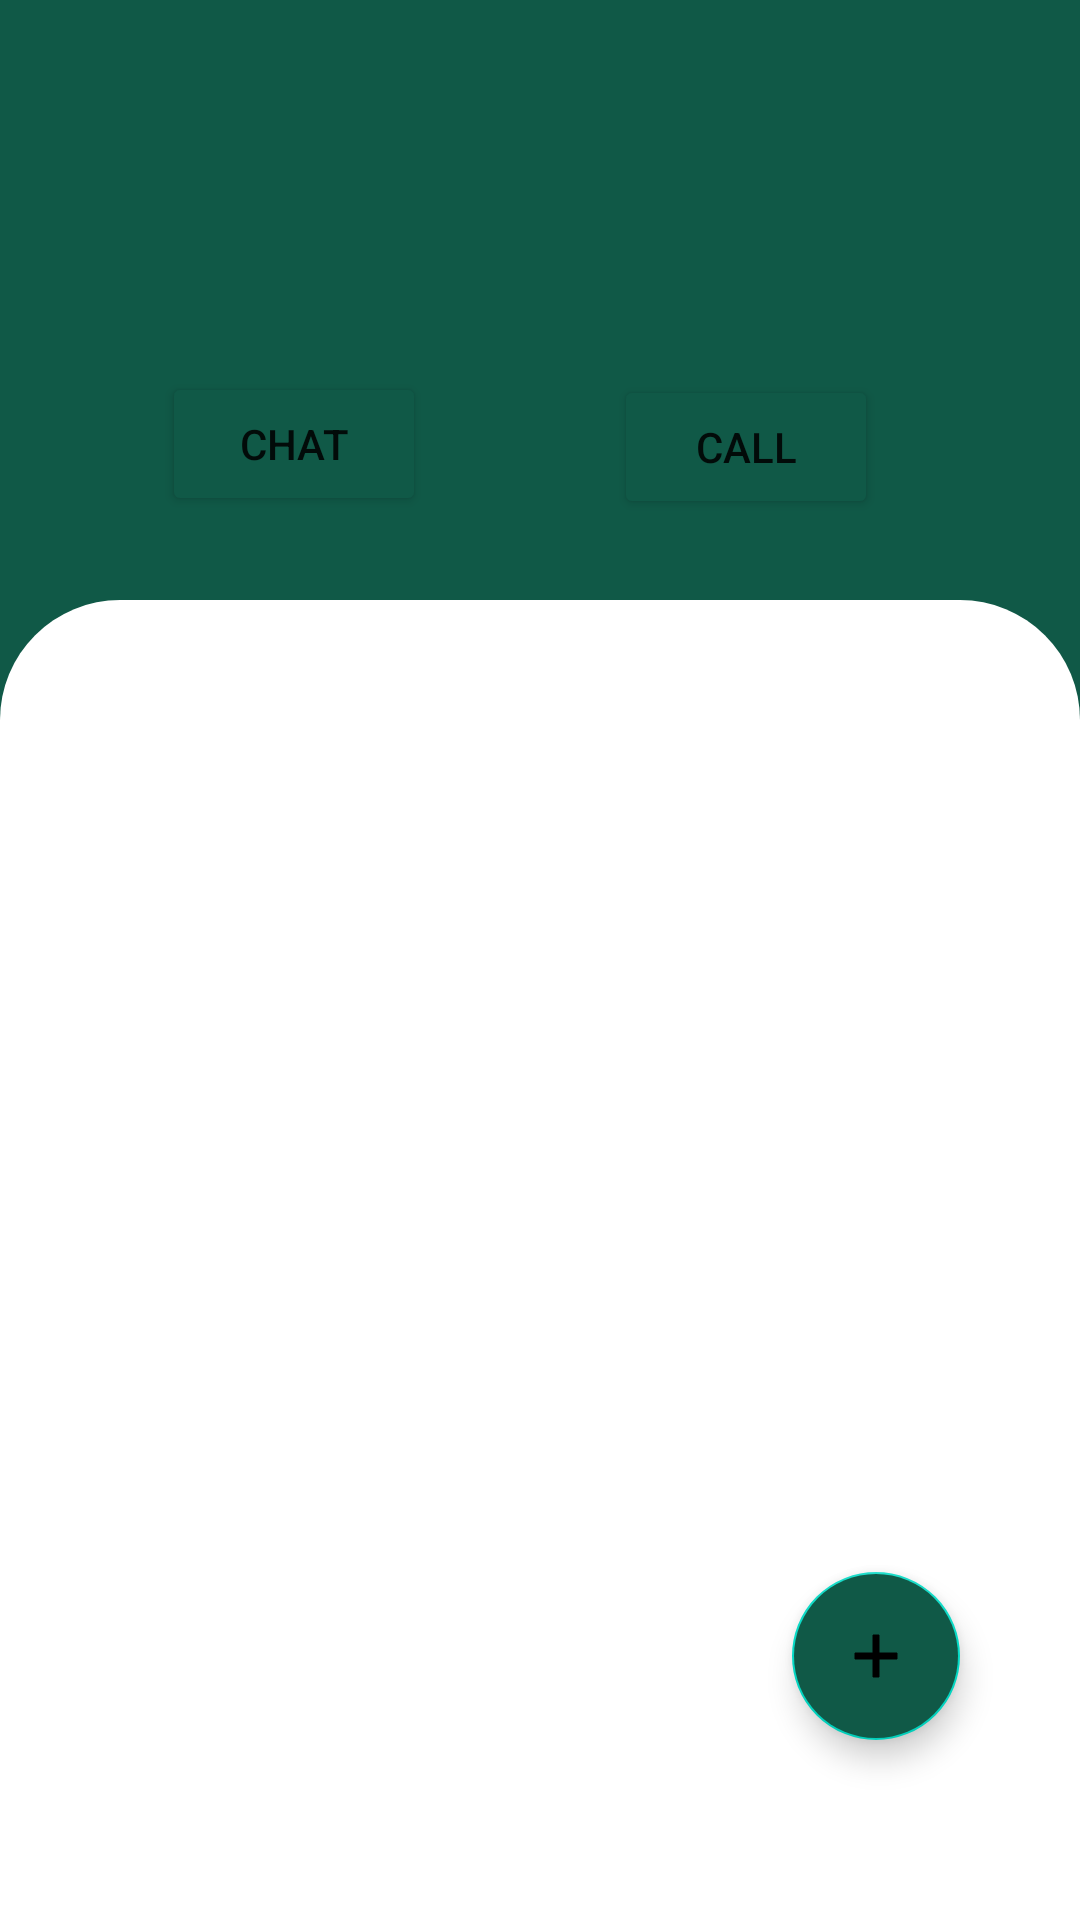

Point at icon controls on the screen. Image size 1080 x 1920, points as (x=x, y=y).
add: (x=876, y=1656)
